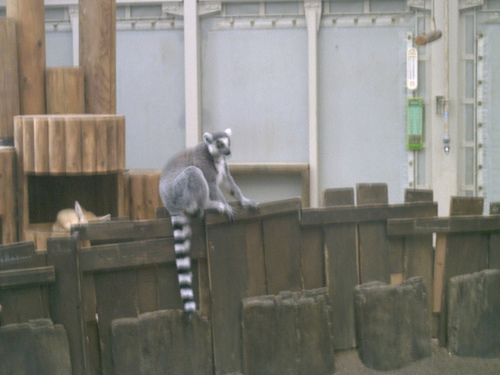cat: (157, 126, 257, 325)
